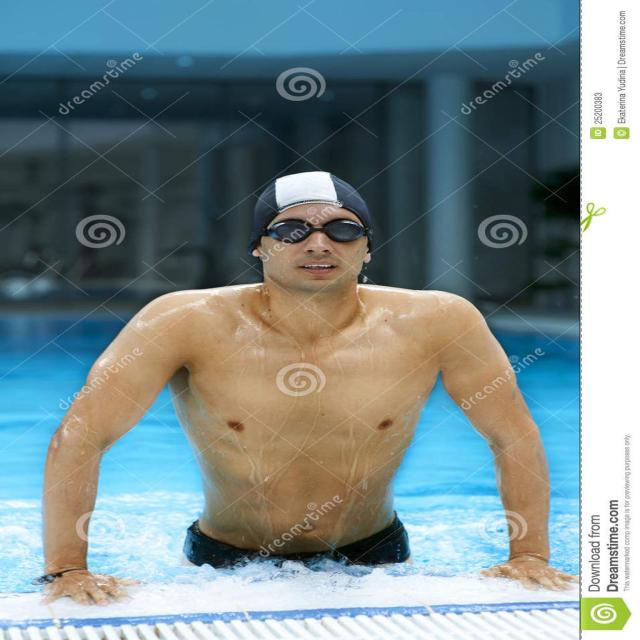Face: (248, 182, 381, 290)
